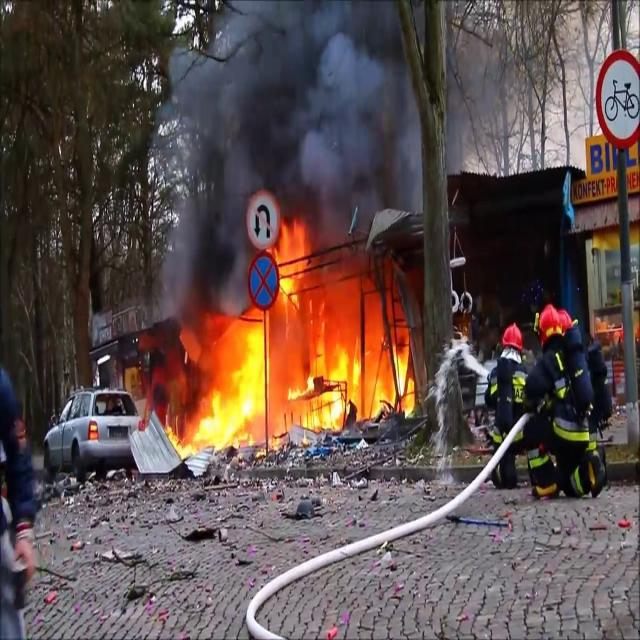Fire: (168, 230, 417, 450)
Smoke: (152, 1, 420, 262)
